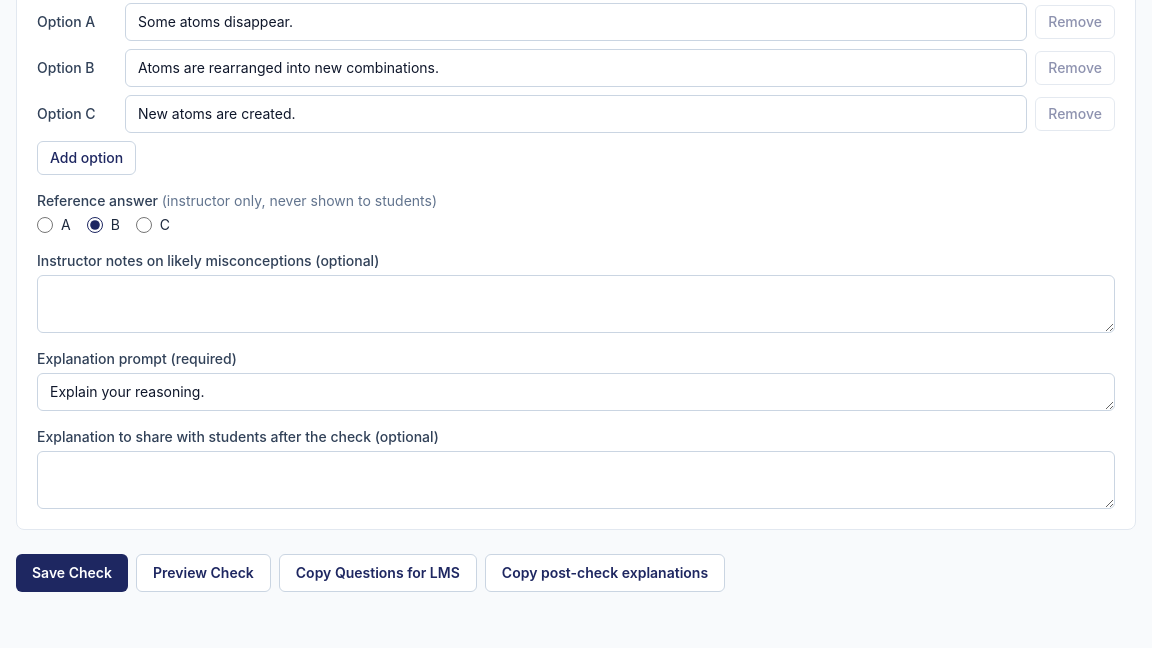
it: Preview hides the reference answer, instructor notes and student explanation
(page scrolled)
What coordinates should you click on to do the following:
click the button "Preview Check"
I would click on:
 (203, 573)
Its box is [136, 554, 271, 592].
(page scrolled)
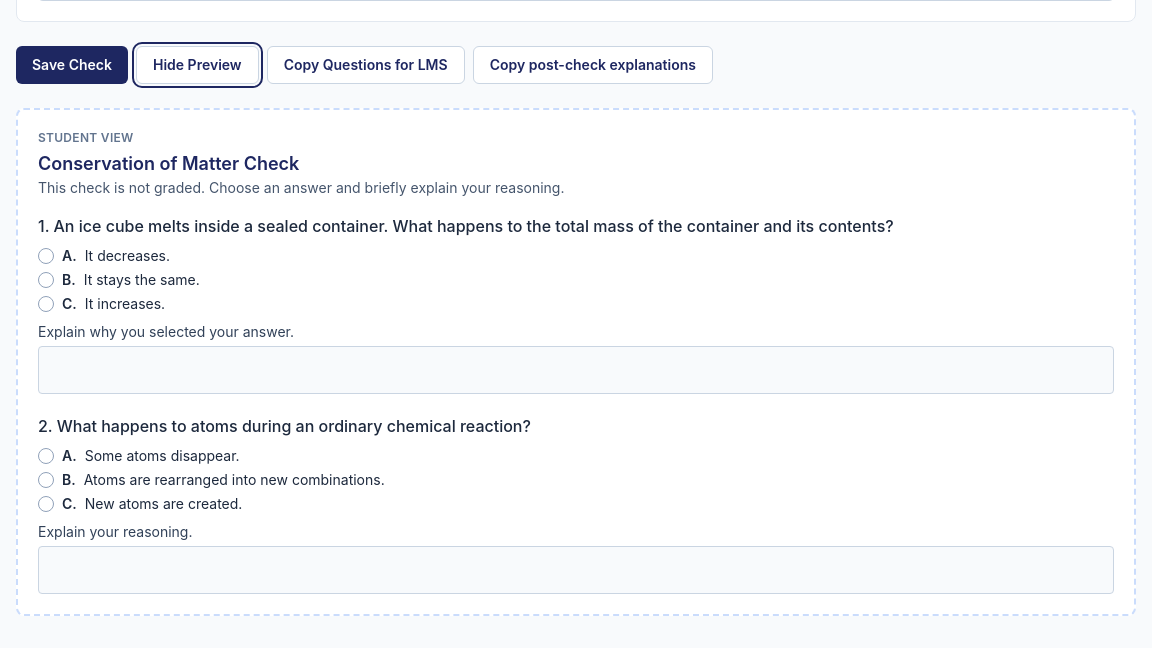
expect the text "An ice cube melts inside a sealed container. What happens to the total mass of the container and its contents?" is shown: met, box [54, 216, 894, 236]
expect the text "It stays the same." is shown: met, box [84, 270, 200, 290]
expect the text "Explain why you selected your answer." is shown: met, box [38, 323, 294, 340]
